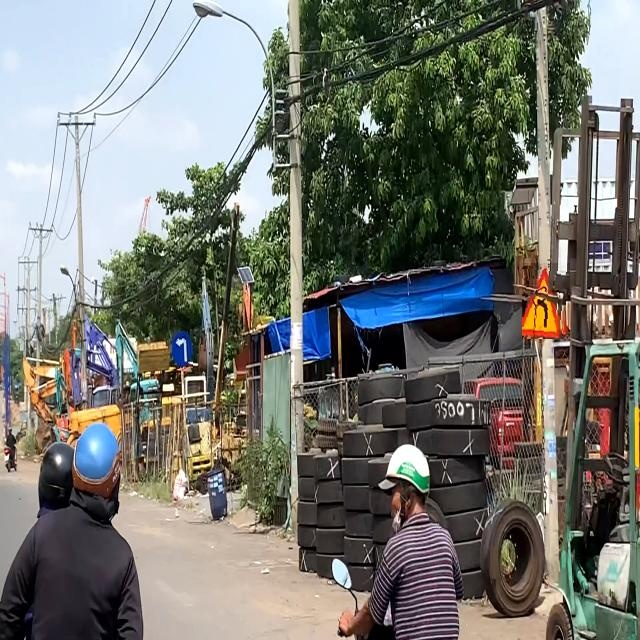bien_hieu_lenh: (522, 263, 570, 339), (170, 329, 193, 369)
